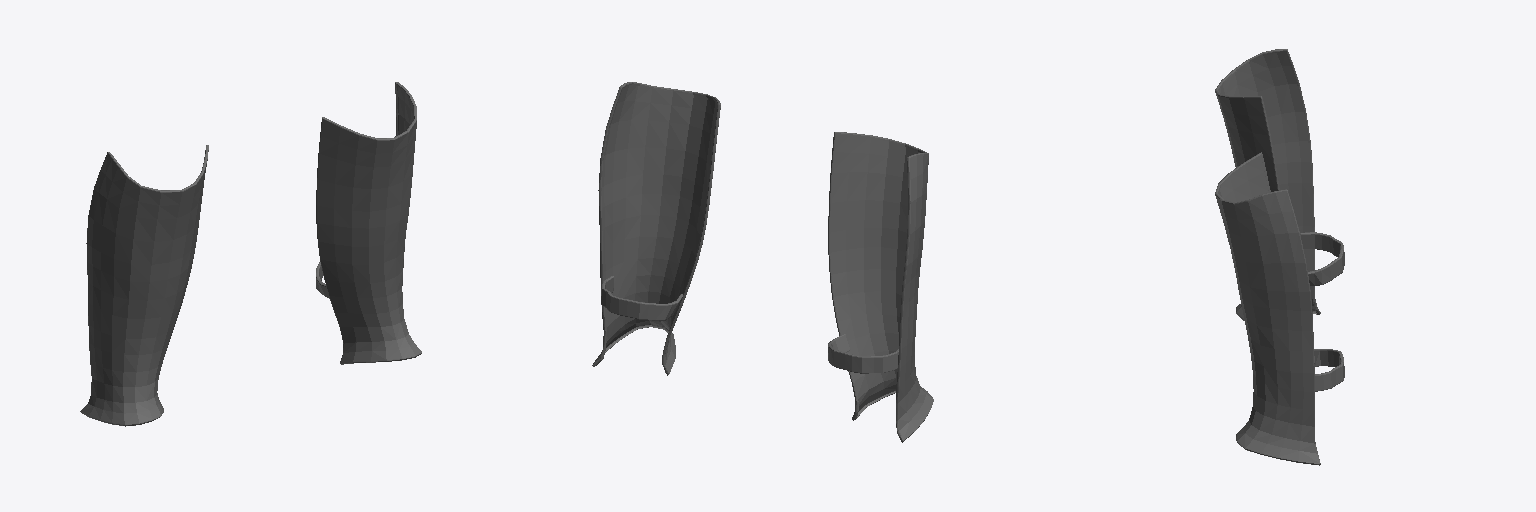
Rendered from Dvustvor_nepolnie.obj.
The picture shows the model from 3 angles: view 1: azimuth 30°, elevation 25°; view 2: azimuth 150°, elevation 25°; view 3: azimuth 270°, elevation 25°; orthographic projection.
Visible parts, largest first — view 1: Object006; view 2: Object006; view 3: Object006.
Boxes of the visible parts, x1,y1,x2,y2 form: Object006: [80, 82, 421, 426]; Object006: [592, 82, 933, 442]; Object006: [1215, 49, 1344, 465].
Bounding box in the file's own units: 2.24 × 1.86 × 0.8013.